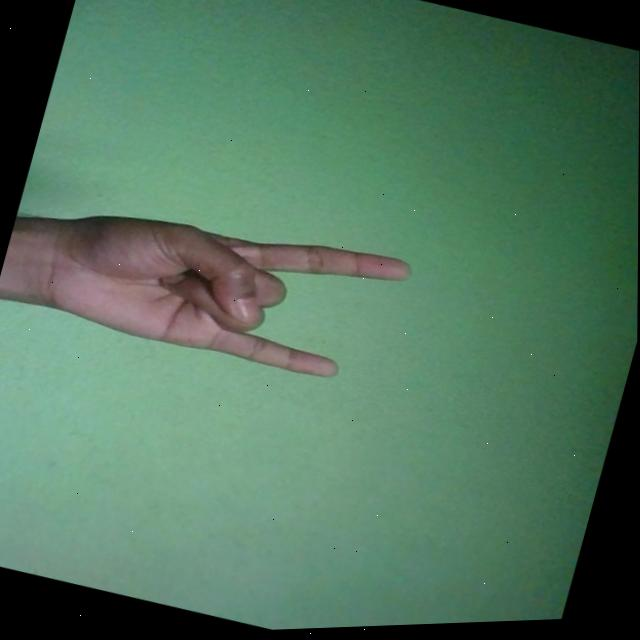Rock On: (23, 170, 416, 406)
